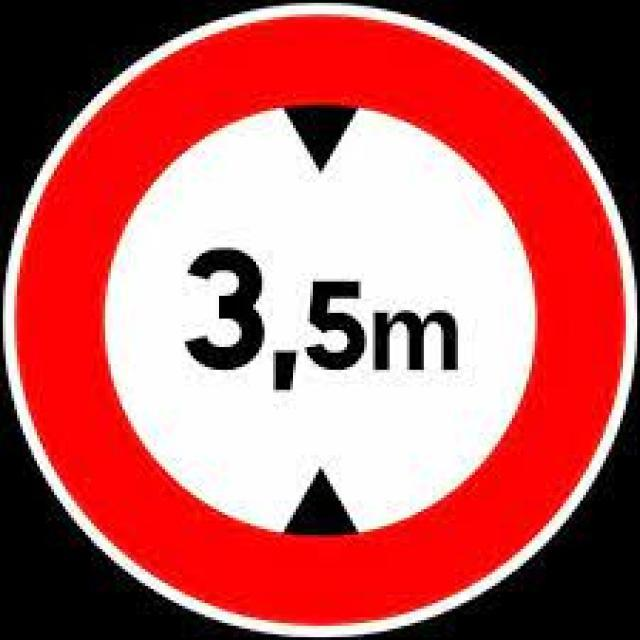height limit: (20, 16, 620, 620)
